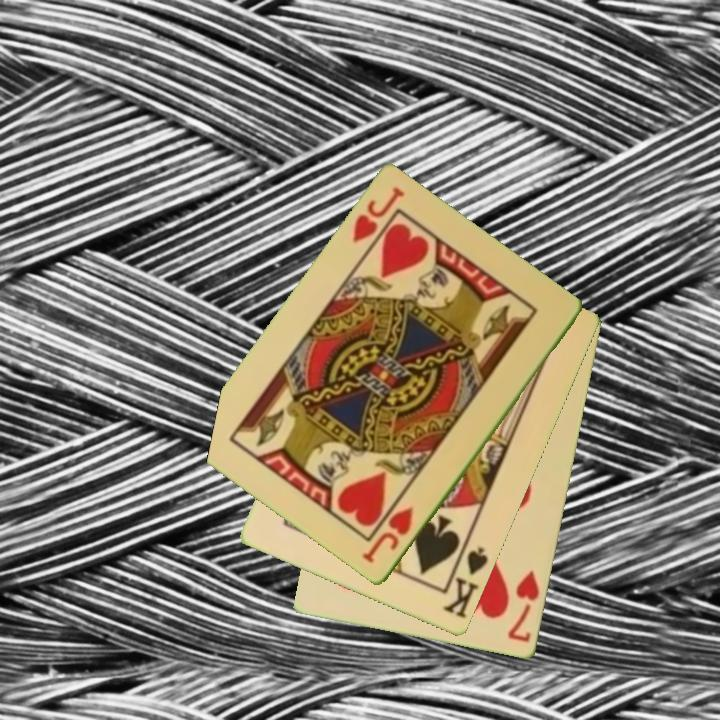7h: (504, 567, 543, 646)
Jh: (358, 503, 417, 567), (349, 184, 408, 247)
Ks: (440, 544, 492, 622)
